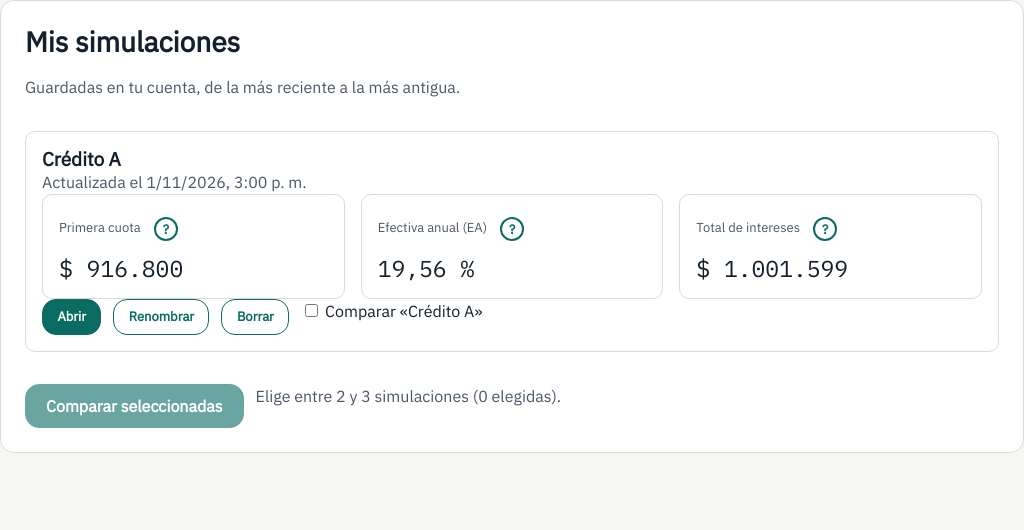
Test: HU-21: Mis simulaciones (registrado) › si el usuario se arrepiente, no se borra nada
This screenshot has width=1024, height=530.
Check: the heading "Crédito A" is shown, box [42,147,121,171]
Click the button with aria-label "Borrar Crédito A" at (255, 317), box [222,299,289,335]
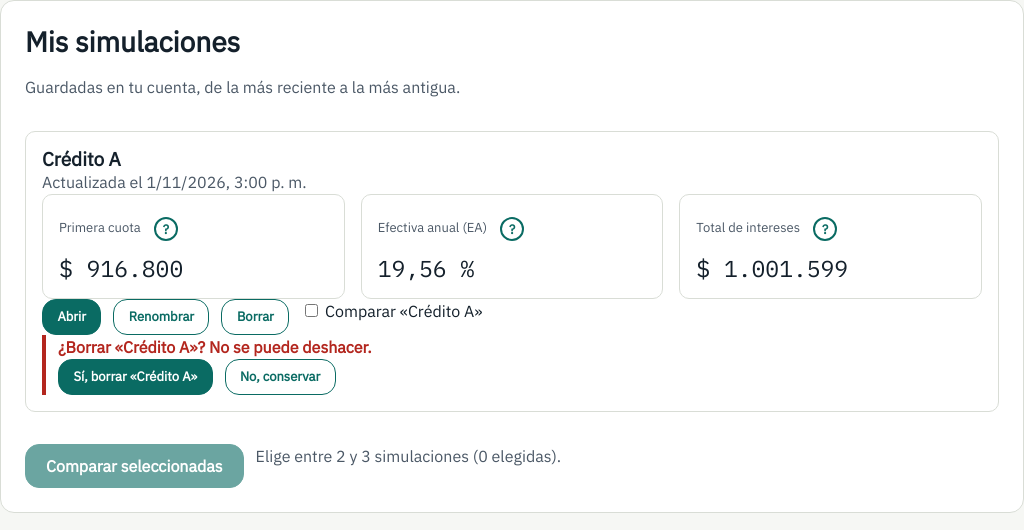
Click the button "No, conservar" at (280, 377), box [224,359,336,395]
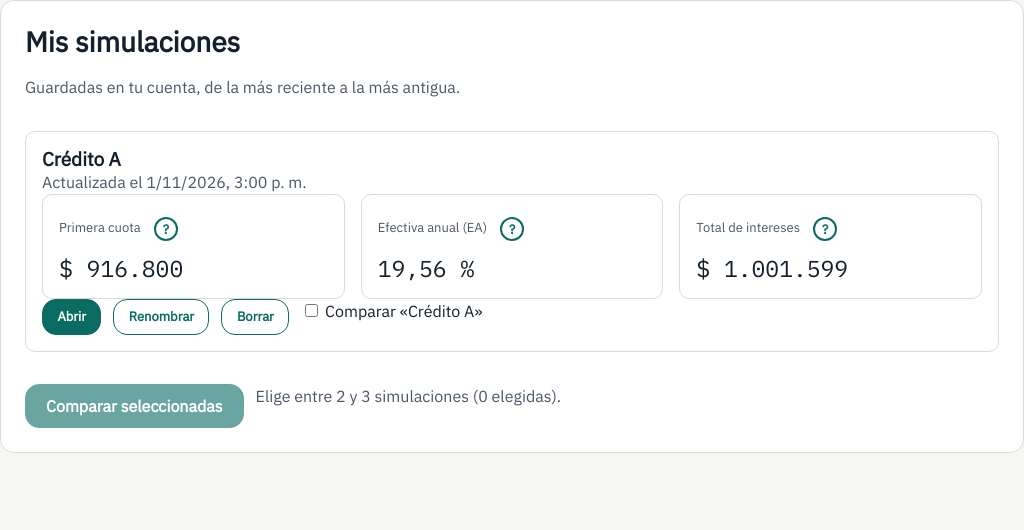
Check: the text "¿Borrar" is gone
